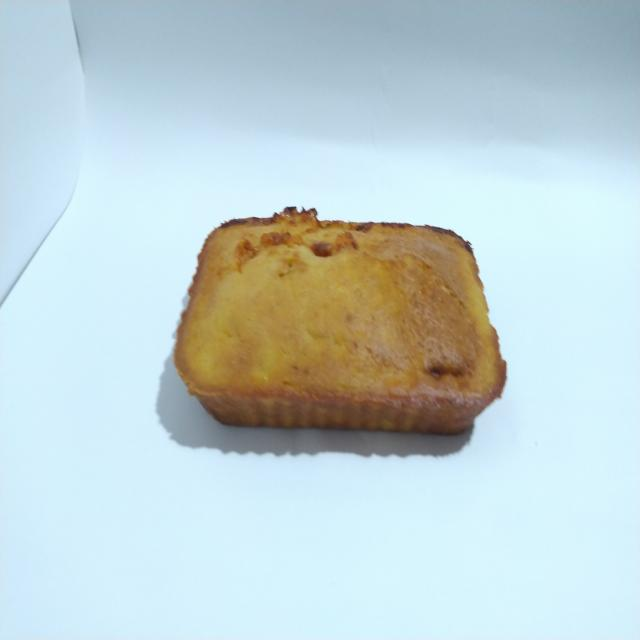Food: (154, 198, 514, 461)
